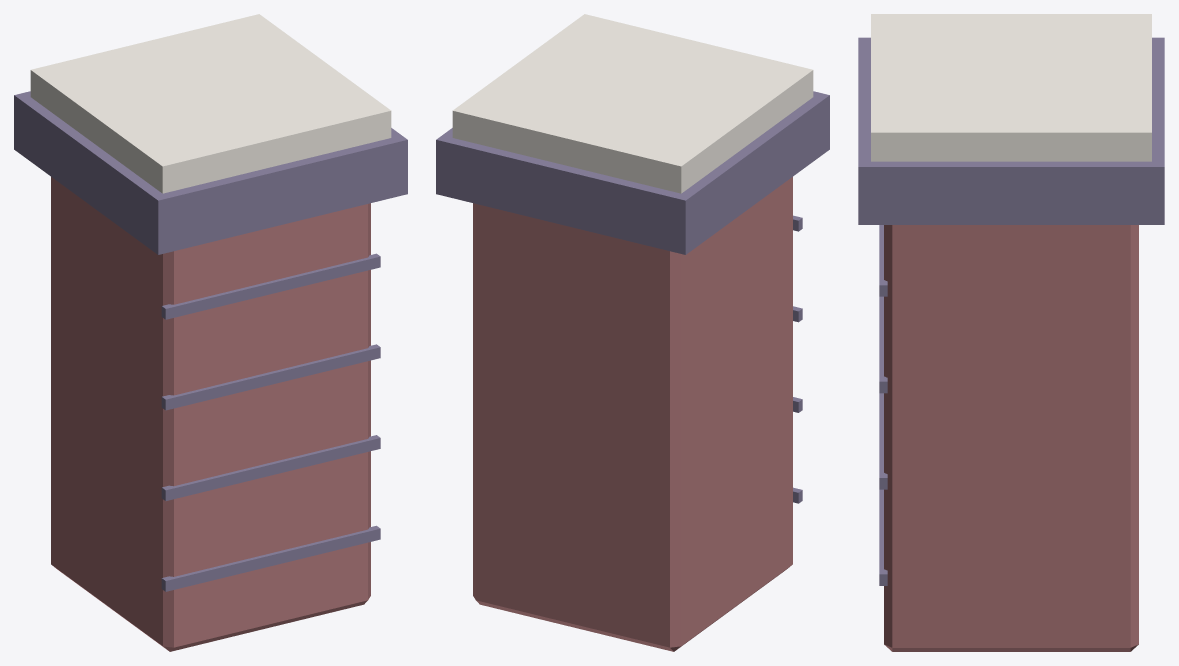
Rendered from sb_chimney.glb.
3 views of the same model, side by side, from view 1: azimuth 30°, elevation 25°; view 2: azimuth 150°, elevation 25°; view 3: azimuth 270°, elevation 25° (orthographic). The views are drawn at different scales.
Parts seen in each view (by area): view 1: chimney; view 2: chimney; view 3: chimney.
Boxes of the visible parts, x1=… form: chimney: x1=14, y1=14, x2=407, y2=651; chimney: x1=436, y1=14, x2=829, y2=651; chimney: x1=858, y1=14, x2=1164, y2=651.
Bounding box in the file's own units: 0.72 × 1.37 × 0.72.
